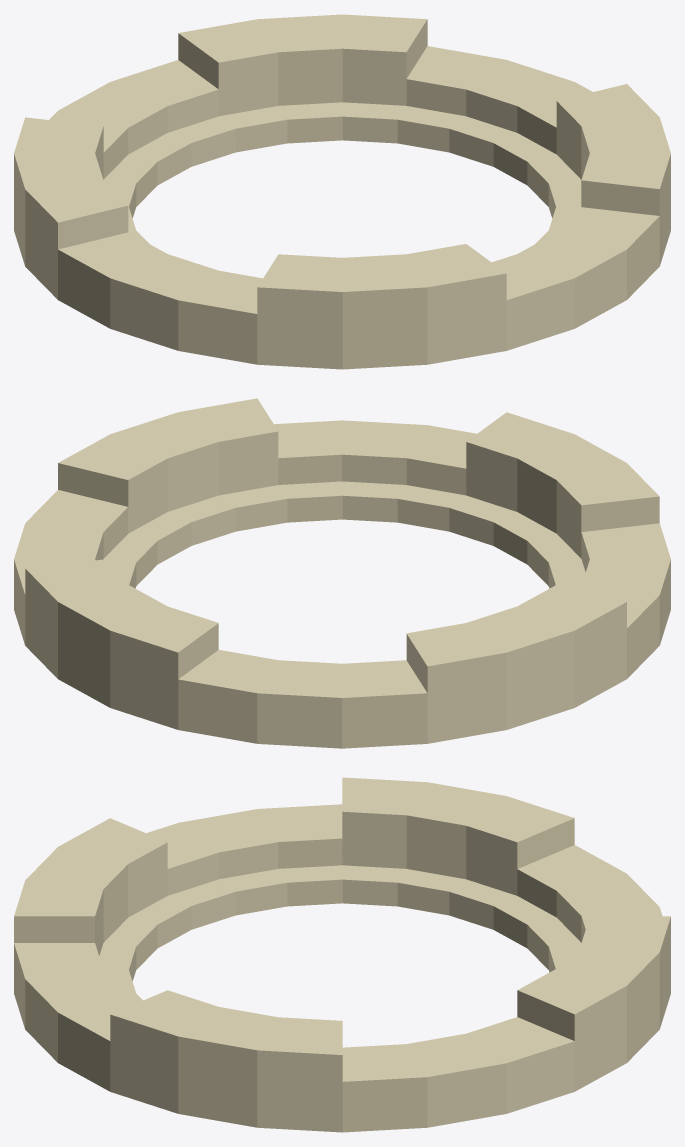
Rendered from towertop.glb.
3 views of the same model, one above another, from view 1: azimuth 30°, elevation 25°; view 2: azimuth 150°, elevation 25°; view 3: azimuth 270°, elevation 25° (orthographic).
Parts seen in each view (by area): view 1: towerTop; view 2: towerTop; view 3: towerTop.
Boxes of the visible parts, box(x1,y1,x2,y2) form: towerTop: box(14, 14, 670, 369); towerTop: box(14, 398, 670, 748); towerTop: box(14, 777, 670, 1132).
Size of the model in its own units: 10 by 1.3 by 10.
